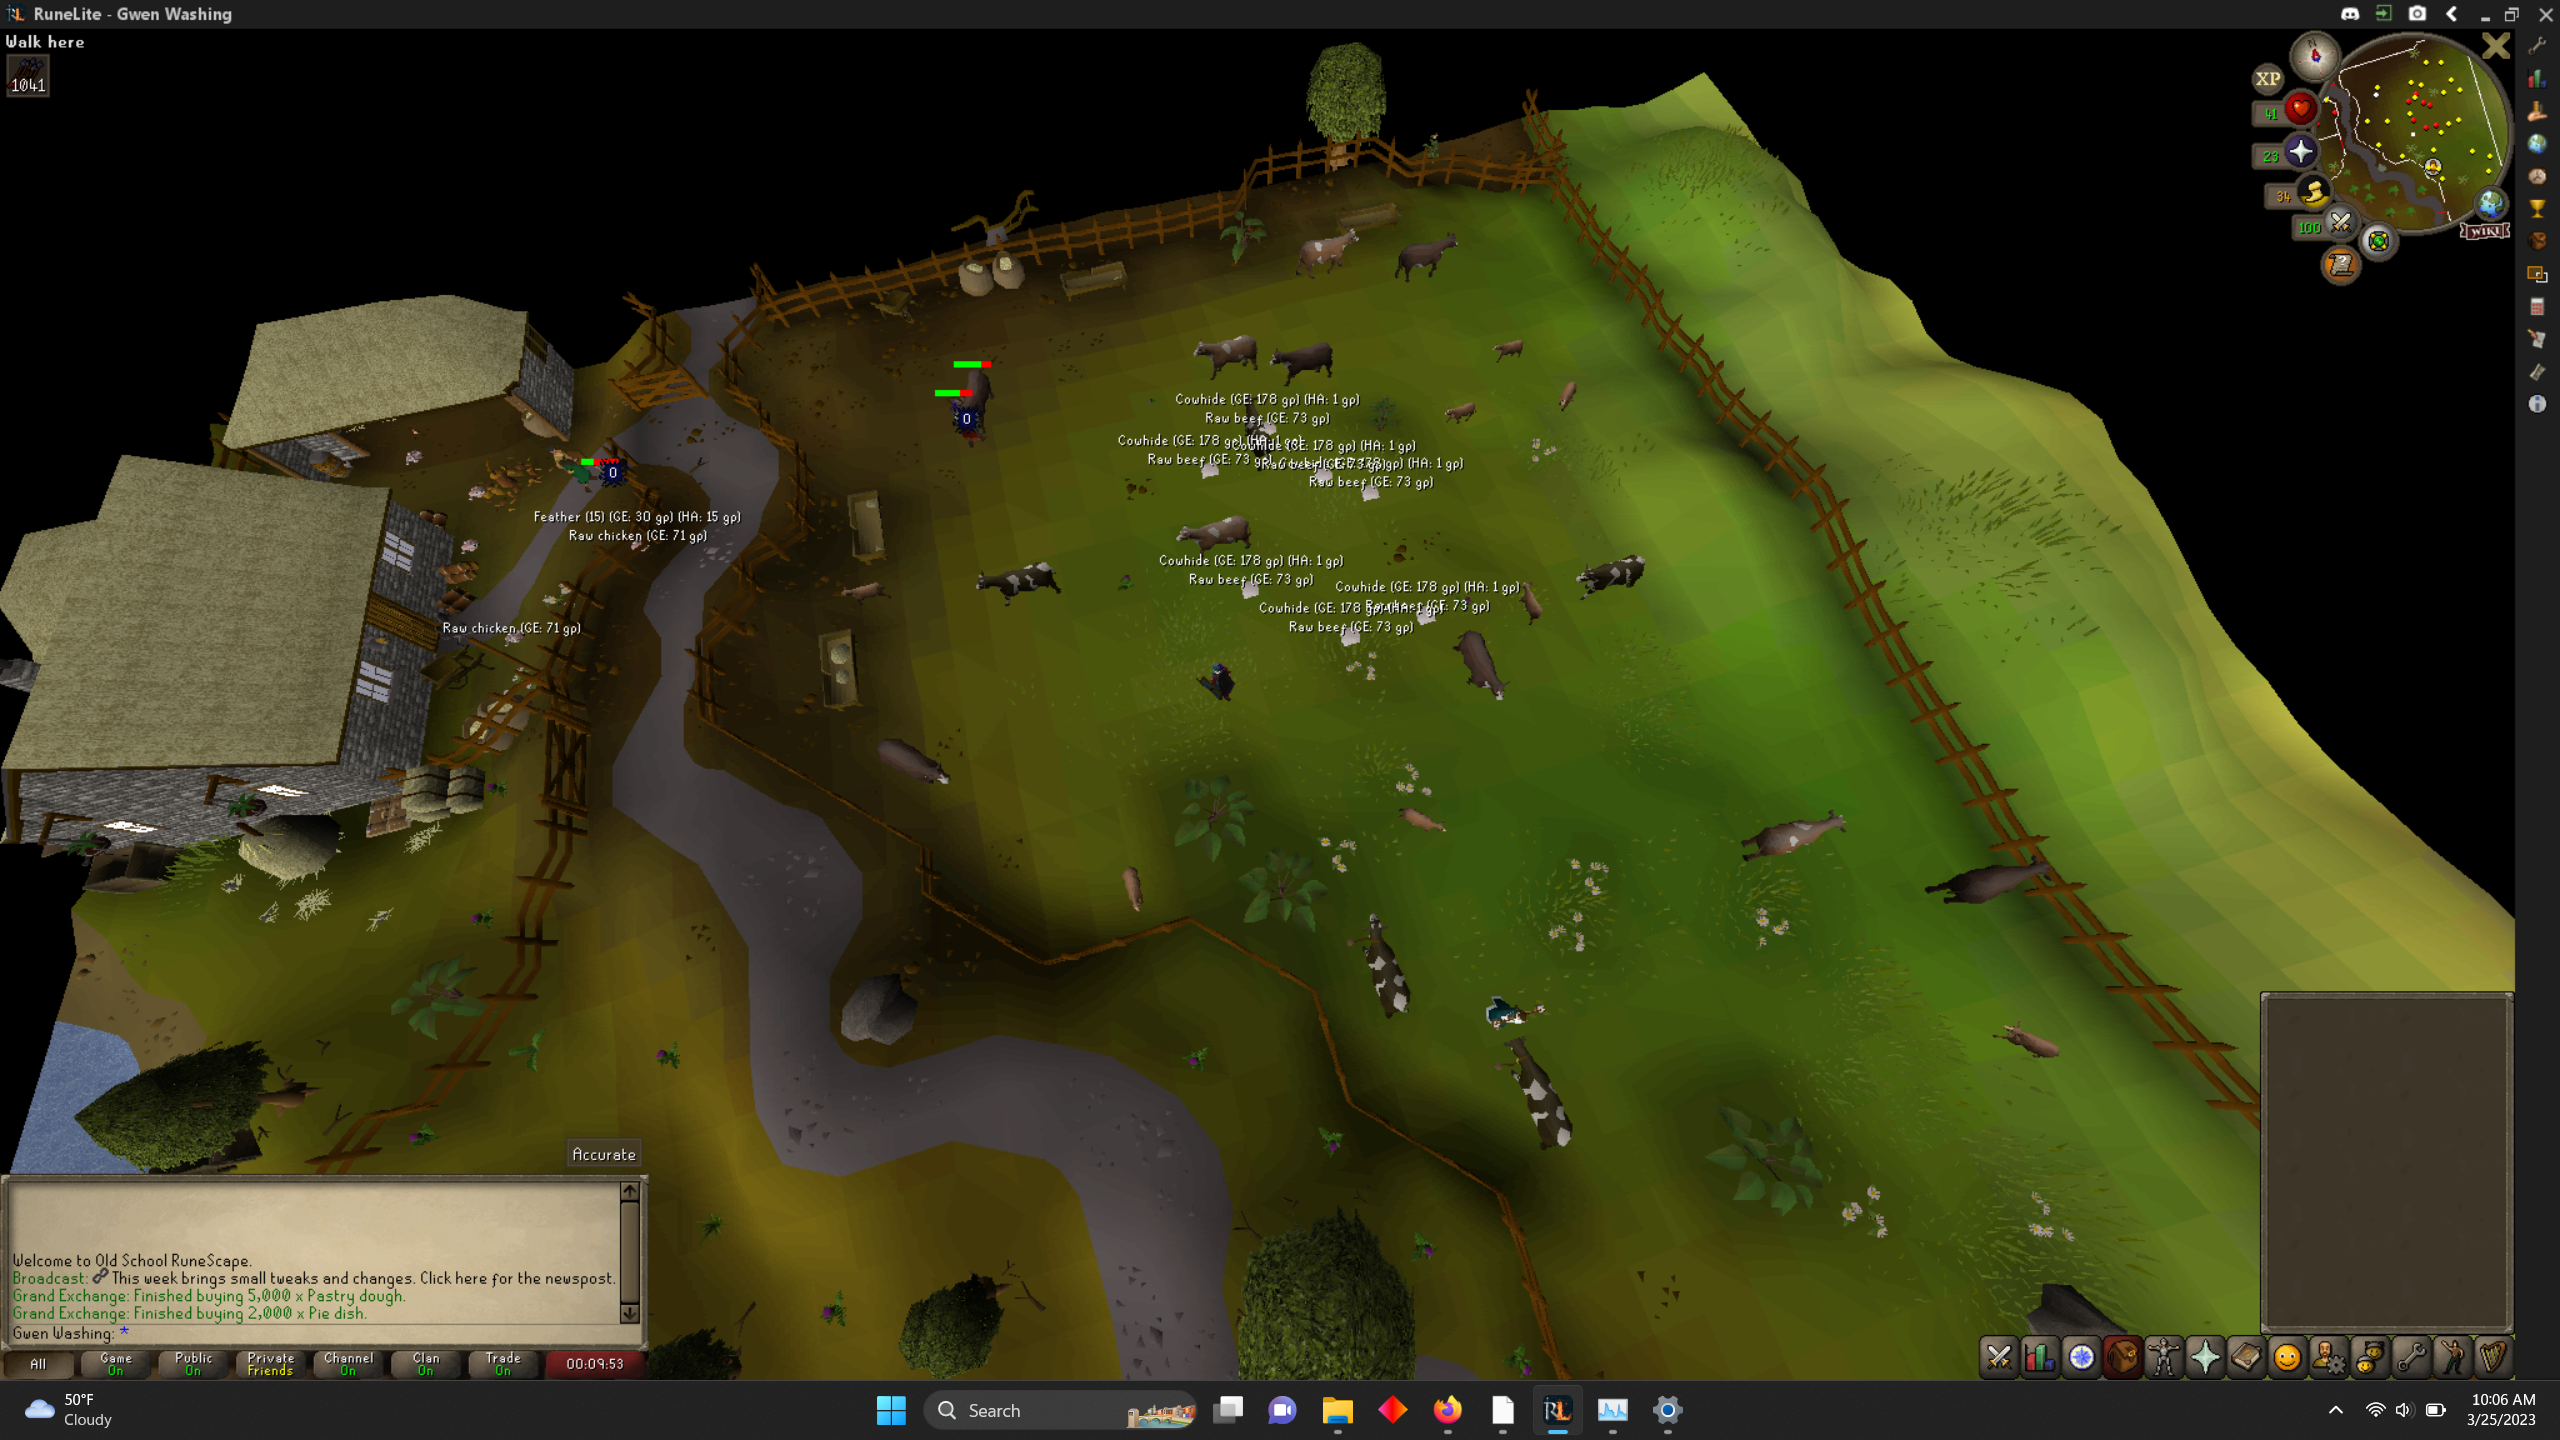cow: (1498, 1034, 1584, 1162), (1924, 849, 2062, 918), (1735, 809, 1858, 874), (1354, 911, 1419, 1029), (870, 731, 962, 793), (1169, 505, 1254, 568), (1449, 624, 1512, 707), (971, 556, 1064, 610), (949, 352, 1007, 434), (1987, 1013, 2068, 1071), (1574, 550, 1649, 612), (1393, 227, 1470, 285), (1264, 339, 1345, 390), (1298, 223, 1364, 285), (1190, 329, 1264, 380), (1387, 796, 1454, 839), (1118, 855, 1150, 920), (1512, 578, 1553, 628), (837, 578, 893, 601), (1442, 399, 1482, 427), (1486, 338, 1530, 360), (1558, 378, 1581, 411)
